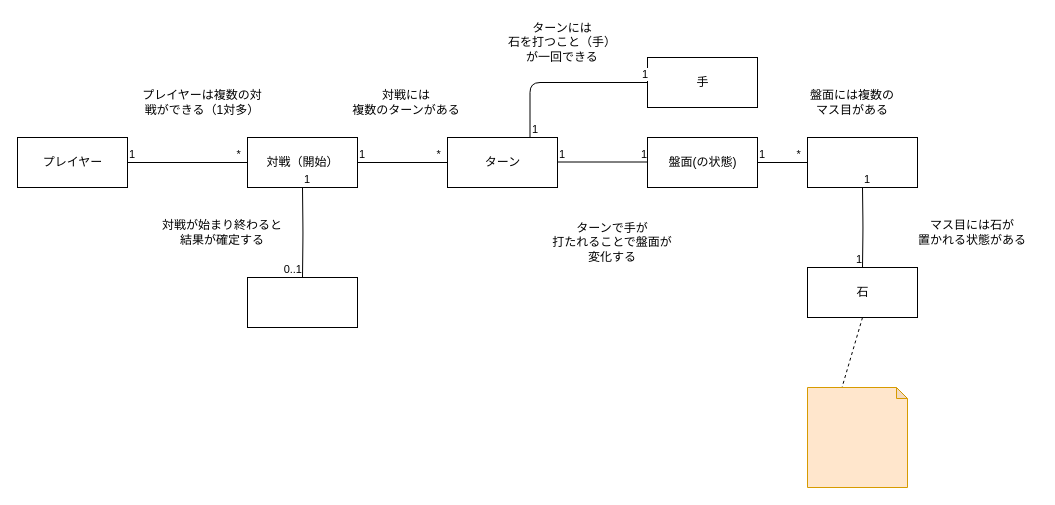
This 1055x505 diagram has some shape labels left out. Each missing label, with the centre of its shape:
"マス目" goes at [862,162].
"対戦結果" goes at [302,302].
"石の種類 空 黒 白" goes at [857,437].
